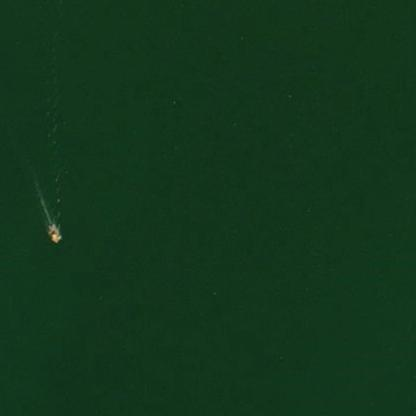ship: (40, 217, 64, 246)
